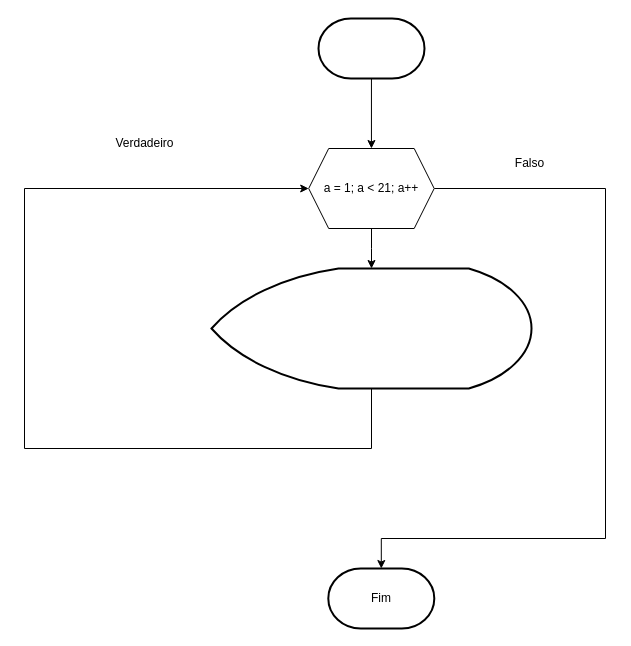
The diagram is 631 pixels wide and 646 high, and some of its shapes have lost their labels. Each missing label, with the centre of its shape:
document.getElementById("fracao").innerHTML += "1" + "/" + a + "</br>": the point at 371,328
Inicio: the point at 371,48
